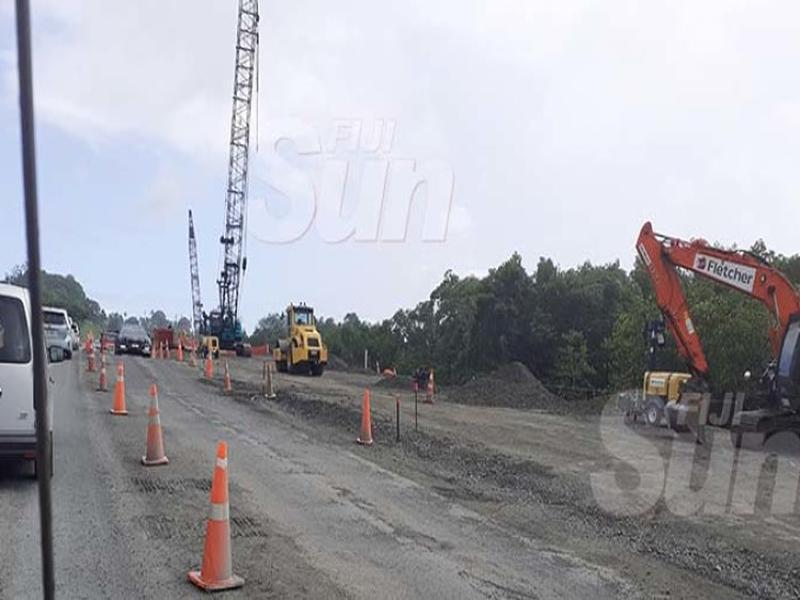Cone: (355, 388, 376, 447)
